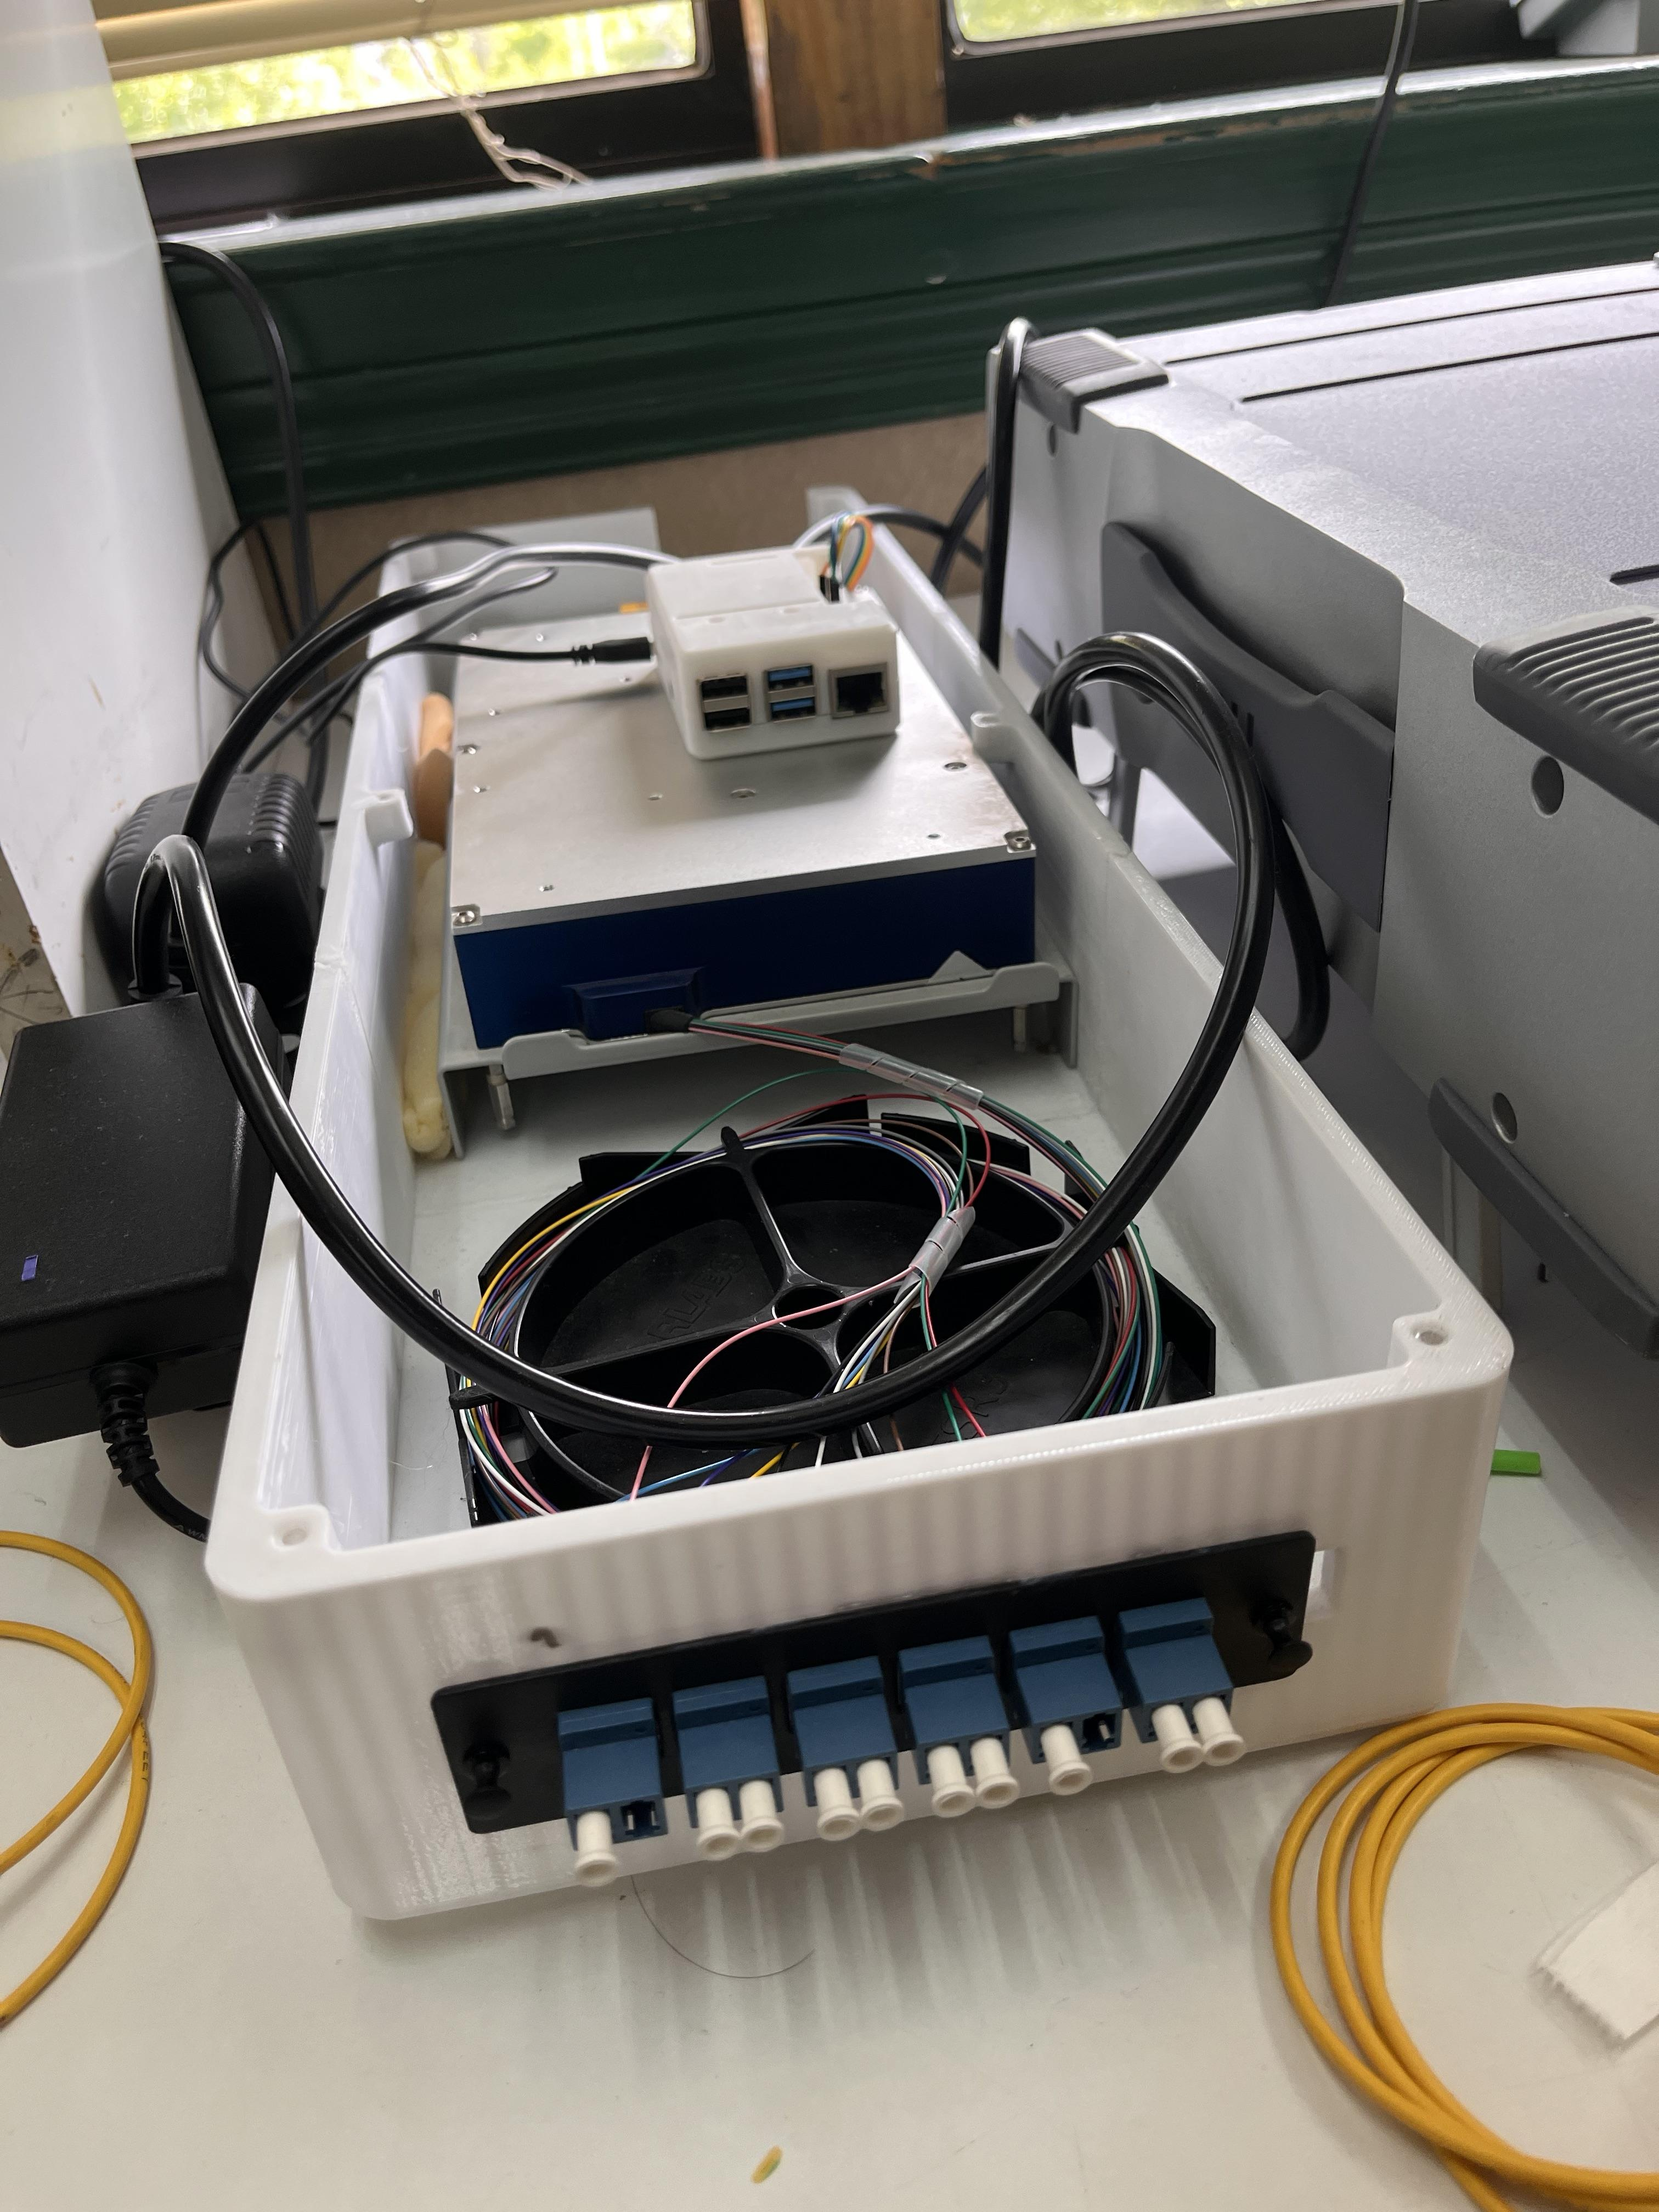powermeter: (267, 449, 1534, 1909)
